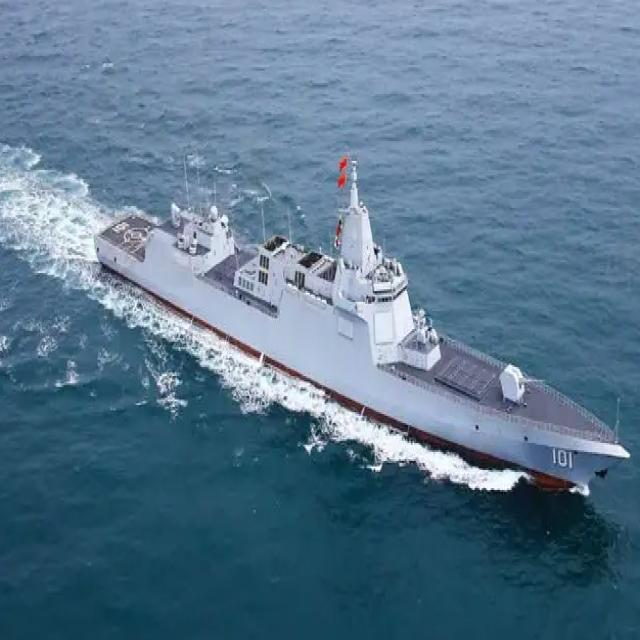navalvessels: (92, 159, 630, 504)
